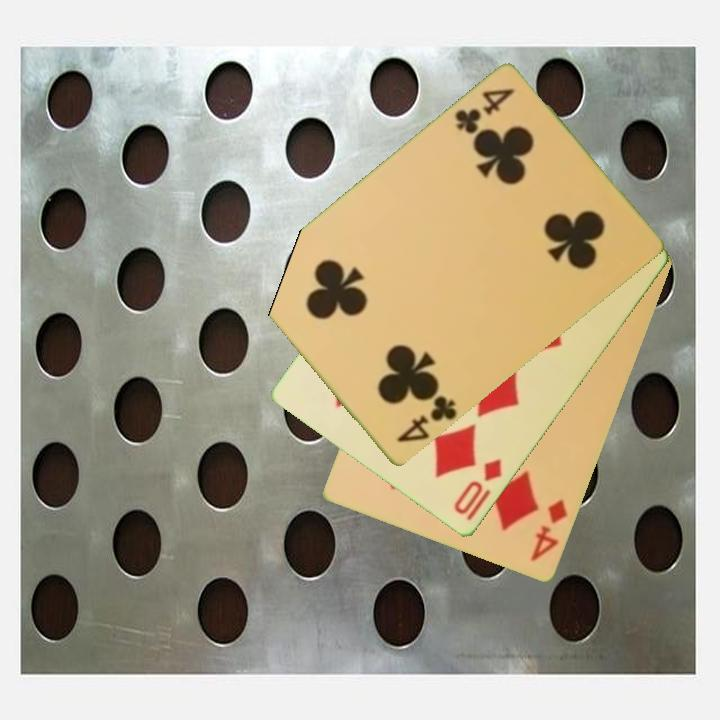10d: (450, 456, 505, 518)
4c: (393, 392, 460, 447), (451, 85, 518, 138)
4d: (527, 496, 571, 565)
